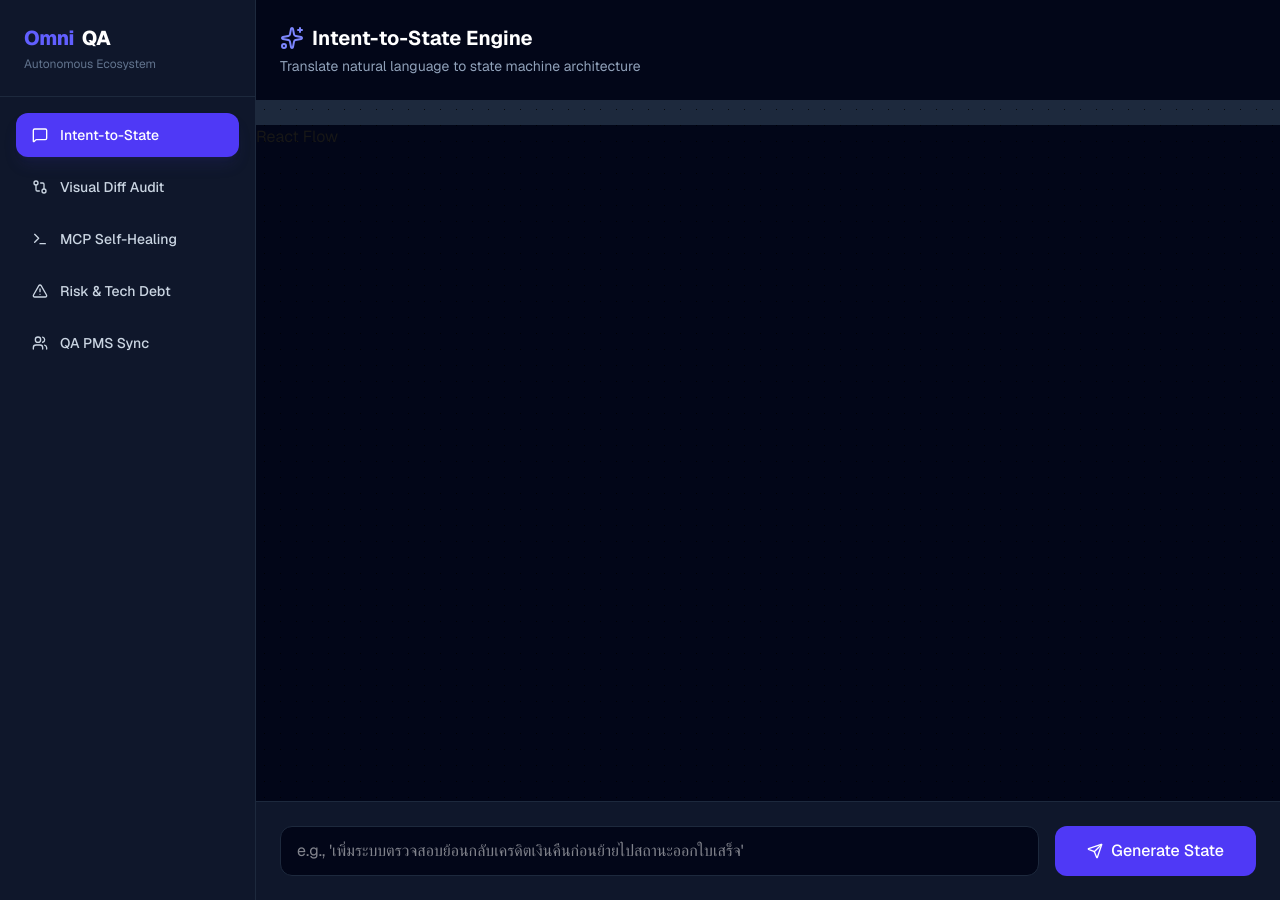
Test case: OmniQA Micro-App Suite › should switch modules in OmniQAApp when clicking sidebar items
This screenshot has width=1280, height=900.
Expected: the heading "Intent-to-State Engine" is shown, [280, 25, 533, 51]
# Switch to Visual Diff Audit
Click the button "Visual Diff Audit" at (128, 187), box [16, 165, 239, 209]
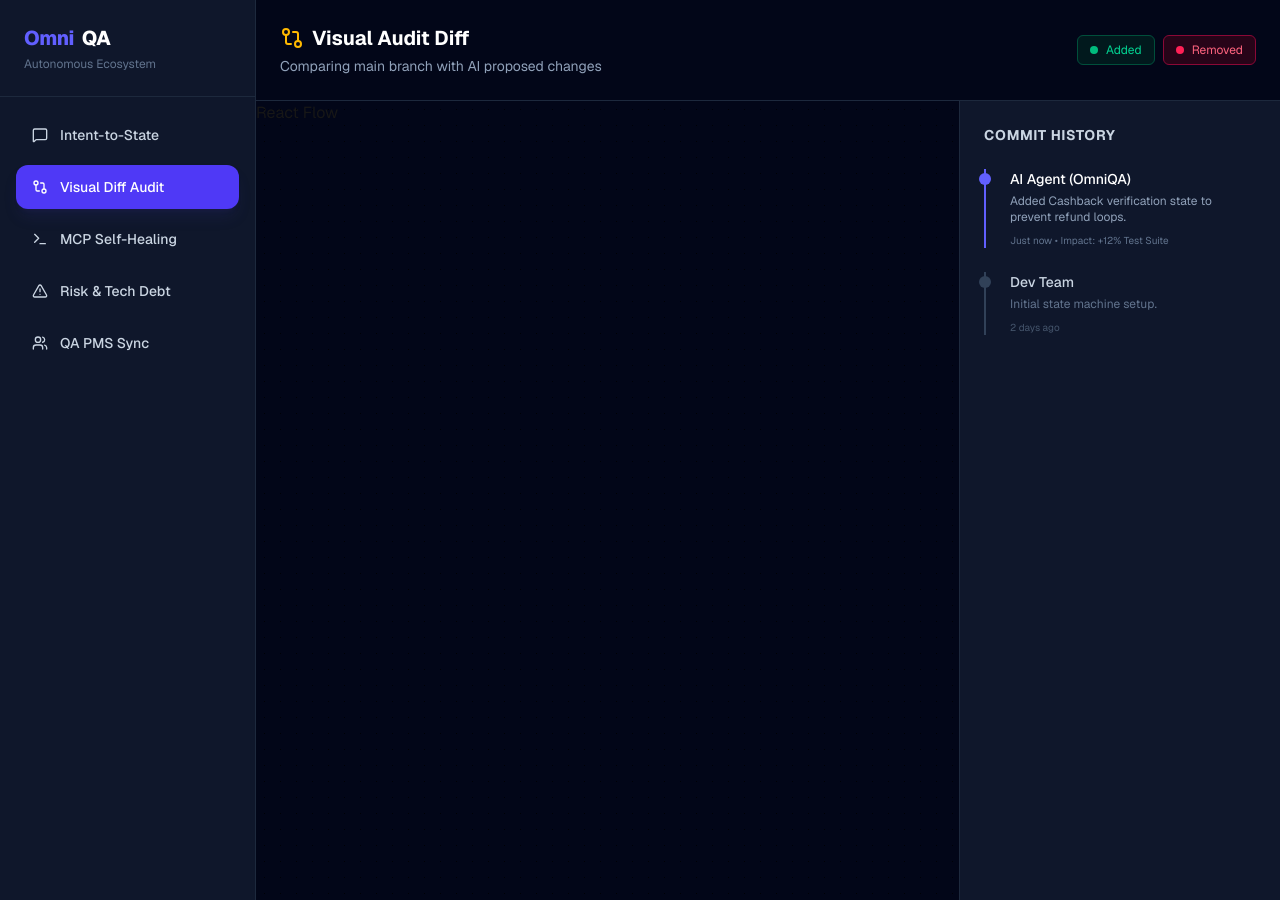
Expected: the heading "Visual Audit Diff" is shown, [280, 25, 470, 51]
Expected: the heading "Intent-to-State Engine" is gone
# Switch to MCP Self-Healing
Click the button "MCP Self-Healing" at (128, 239), box [16, 217, 239, 261]
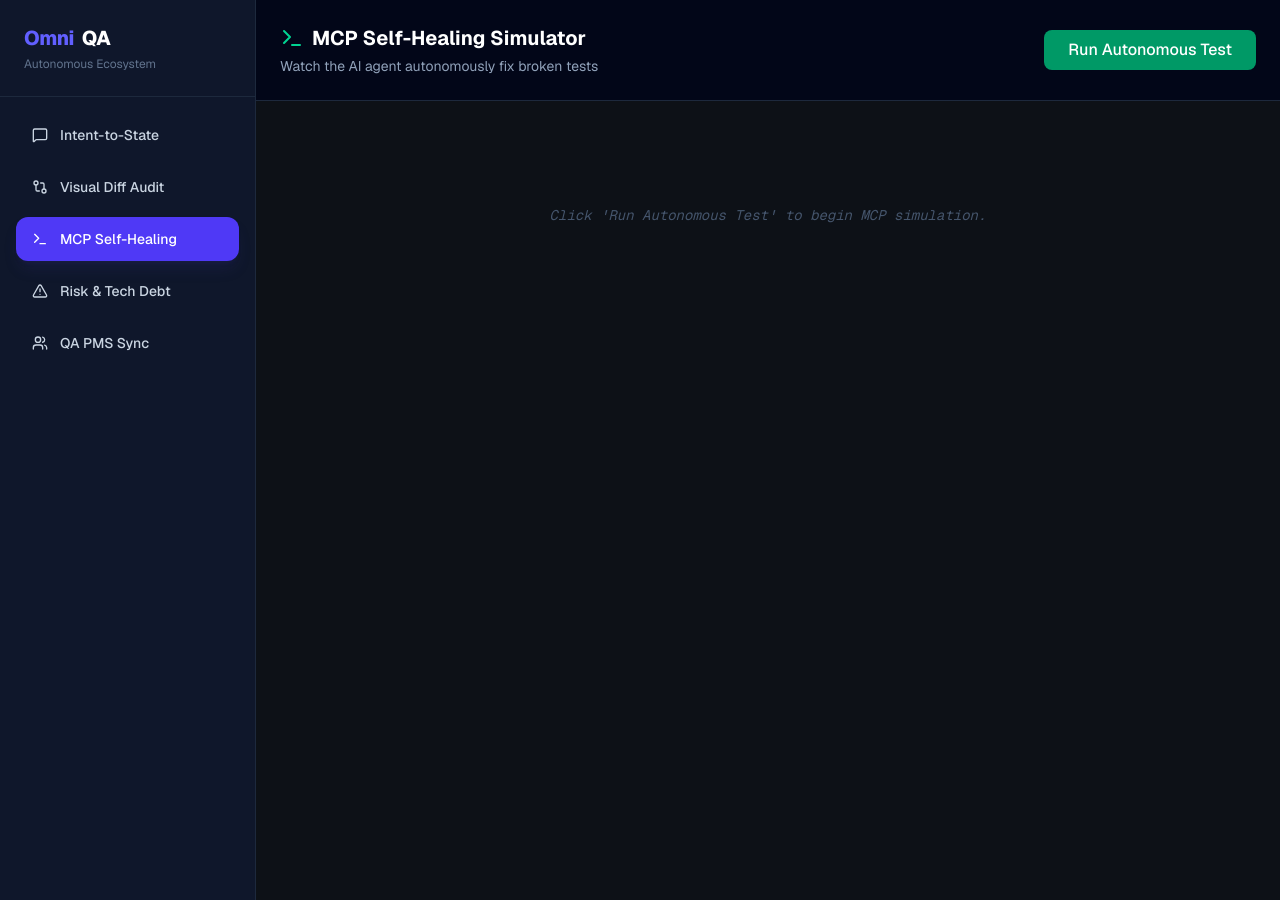
Expected: the heading "MCP Self-Healing Simulator" is shown, [280, 24, 598, 52]
# Switch to Risk & Tech Debt
Click the button "Risk & Tech Debt" at (128, 291), box [16, 269, 239, 313]
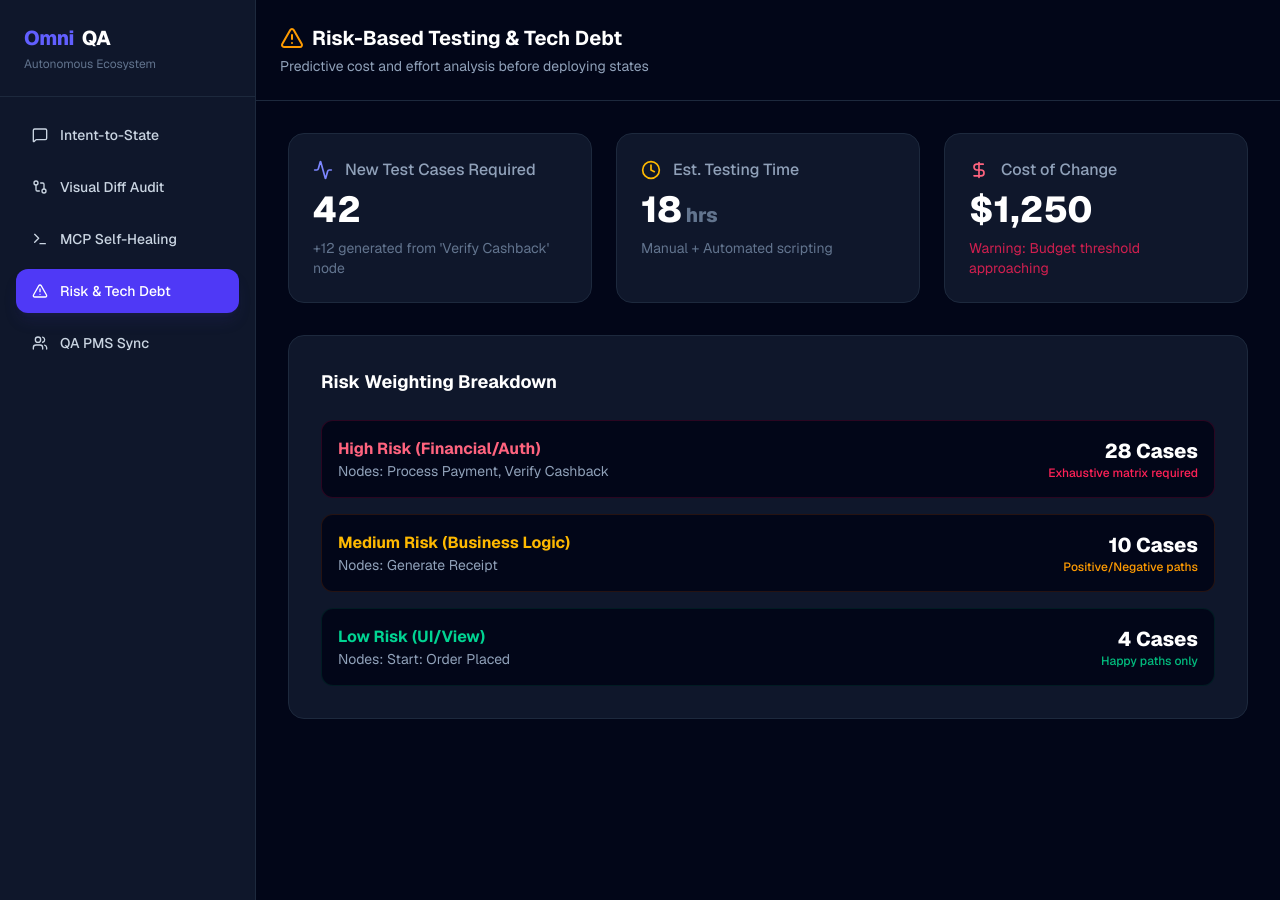
Expected: the heading "Risk-Based Testing & Tech Debt" is shown, [280, 25, 622, 51]
# Switch to QA PMS Sync
Click the button "QA PMS Sync" at (128, 343), box [16, 321, 239, 365]
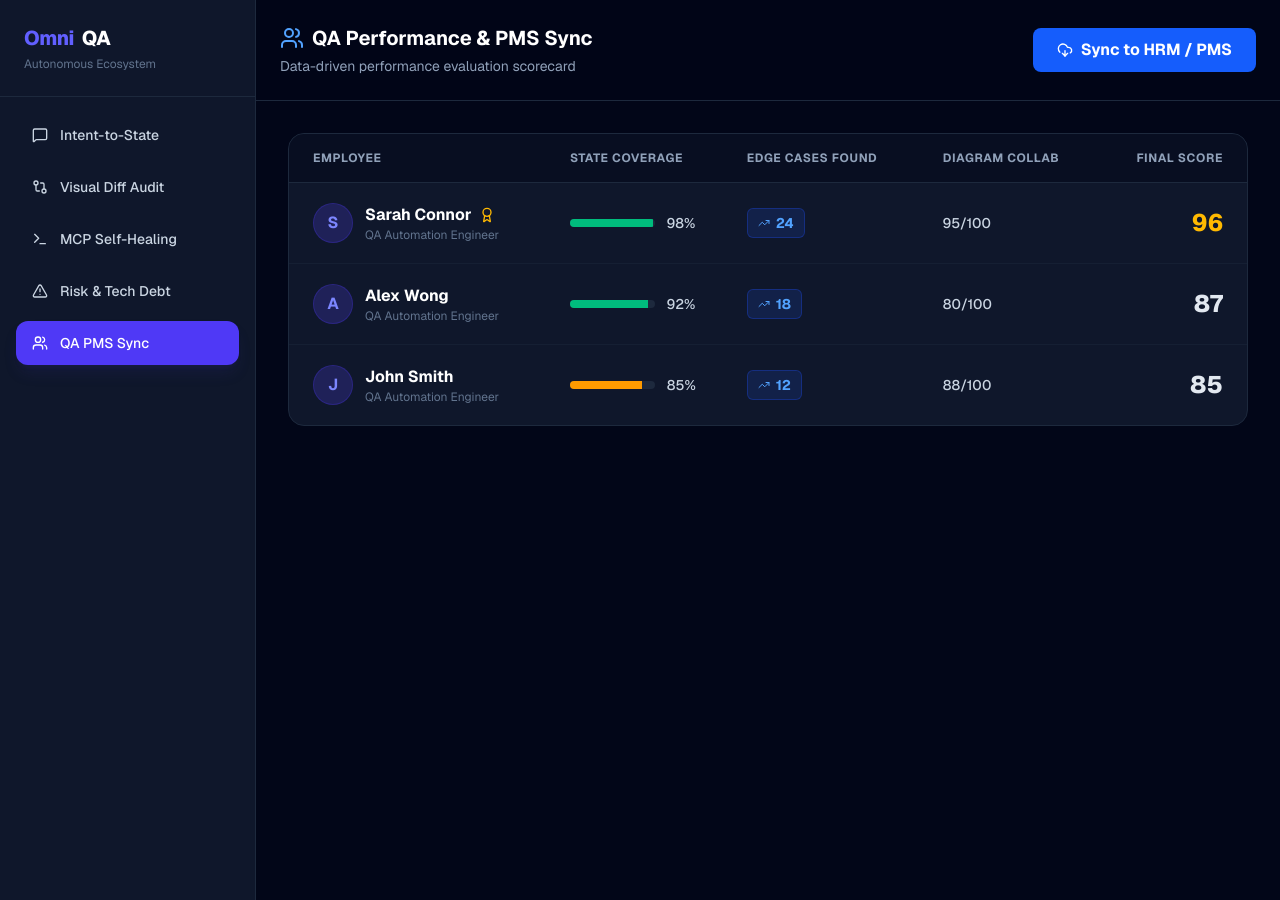
Expected: the heading "QA Performance & PMS Sync" is shown, [280, 24, 593, 52]
